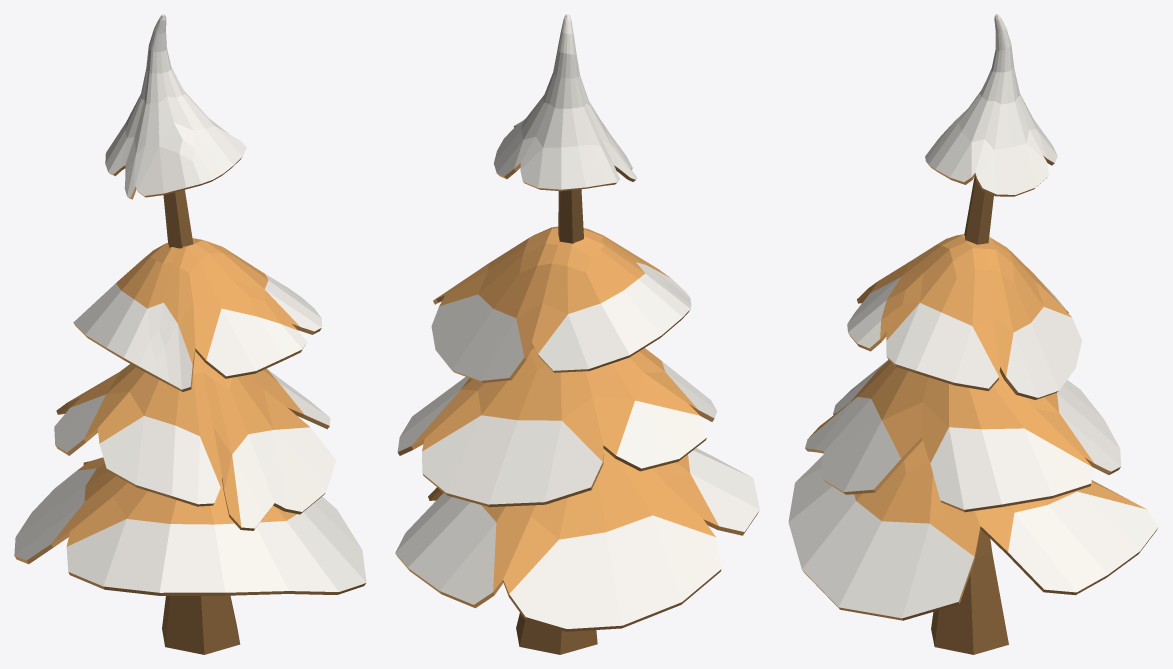
Rendered from PineTree_Snow_2.glb.
3 renders of one model, left to right at view 1: azimuth 30°, elevation 25°; view 2: azimuth 150°, elevation 25°; view 3: azimuth 270°, elevation 25°, orthographic. The views are drawn at different scales.
Visible parts, largest first — view 1: PineTree_Snow_2; view 2: PineTree_Snow_2; view 3: PineTree_Snow_2.
Part boxes in pixels (box(x1,y1,x2,y2)): PineTree_Snow_2: box(14, 14, 366, 654); PineTree_Snow_2: box(395, 14, 759, 654); PineTree_Snow_2: box(788, 14, 1158, 654).
Bounding box in the file's own units: 1.8 × 3.56 × 1.96.
